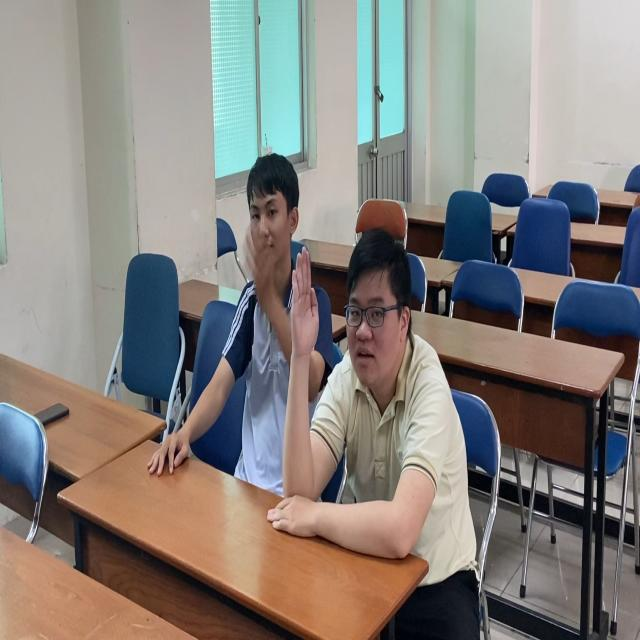raise_hand: (282, 230, 467, 558)
